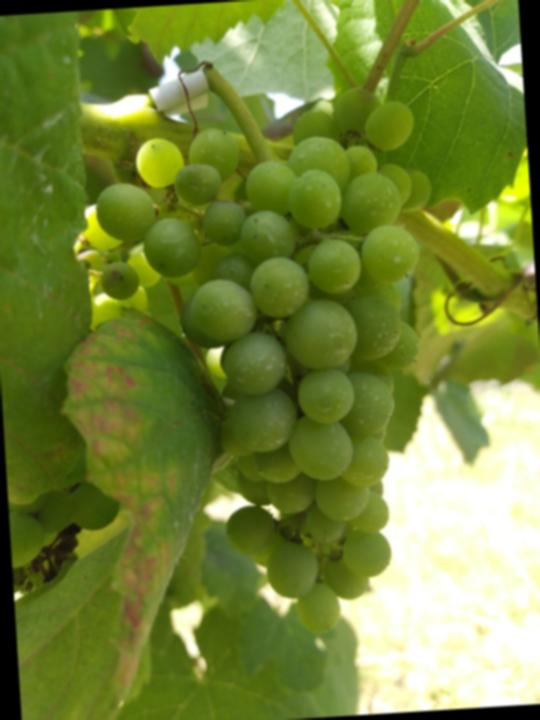grape: (75, 81, 462, 652)
